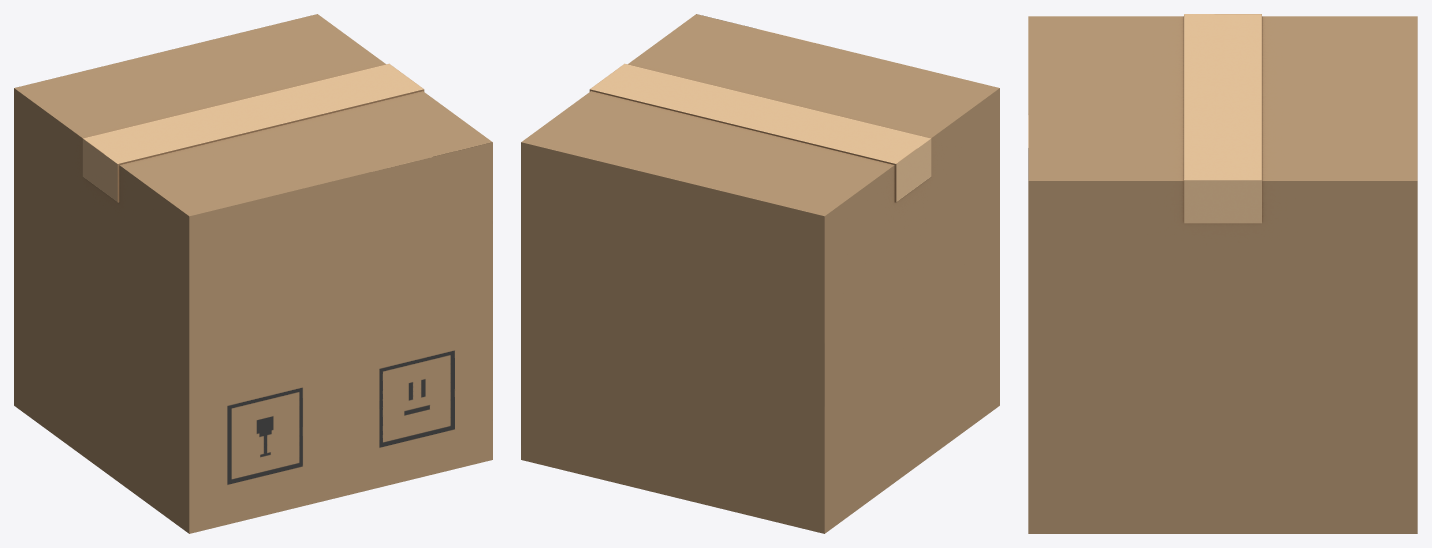
Rendered from shippingBox.glb.
The picture shows the model from 3 angles, left to right: view 1: azimuth 30°, elevation 25°; view 2: azimuth 150°, elevation 25°; view 3: azimuth 270°, elevation 25°; orthographic projection. The views are drawn at different scales.
Parts seen in each view (by area): view 1: ShippingBox; view 2: ShippingBox; view 3: ShippingBox.
Boxes of the visible parts, box(x1,y1,x2,y2) form: ShippingBox: box(14, 14, 492, 533); ShippingBox: box(521, 14, 999, 533); ShippingBox: box(1028, 14, 1417, 533).
Size of what is drawn, in the model's own units: 0.5051 by 0.502 by 0.5.
3 materials, 3 textured.
